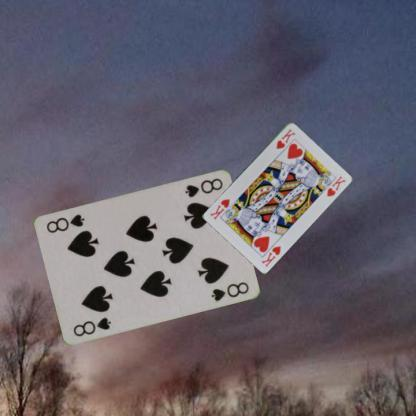8s: (182, 175, 224, 199), (70, 314, 112, 338)
Kh: (259, 243, 282, 268), (274, 126, 296, 150)
